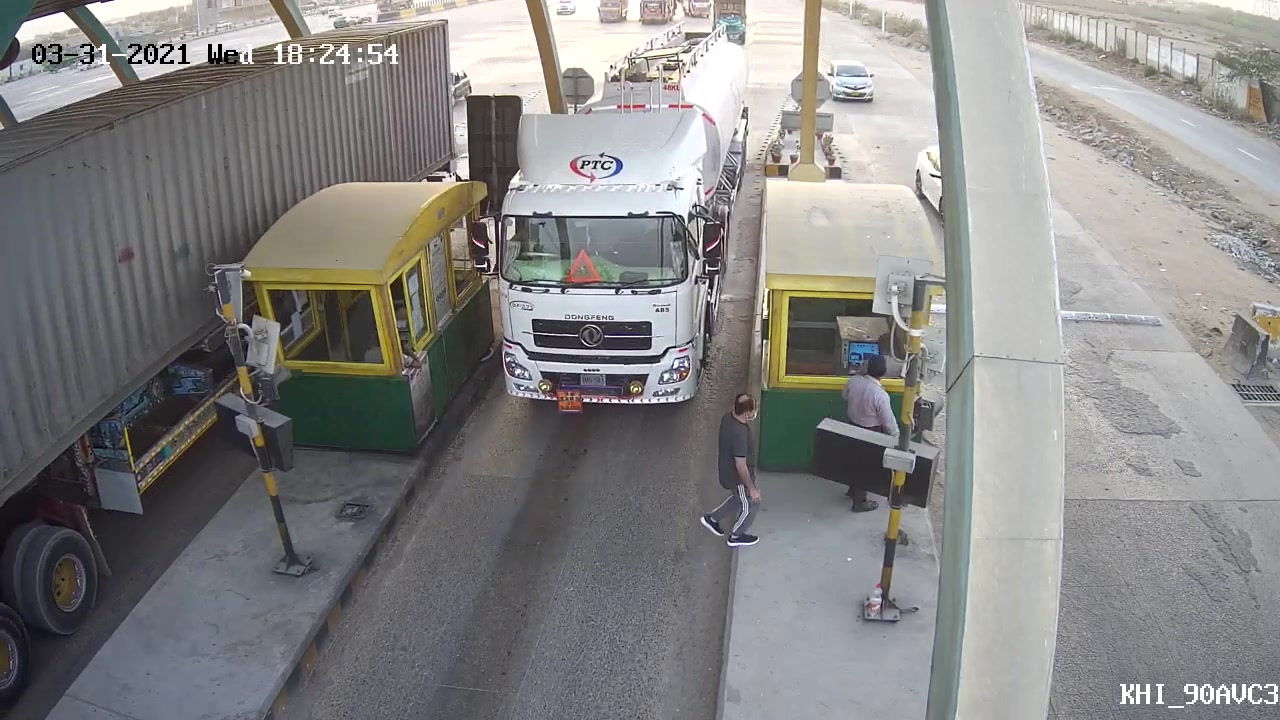F6: (466, 56, 751, 420)
